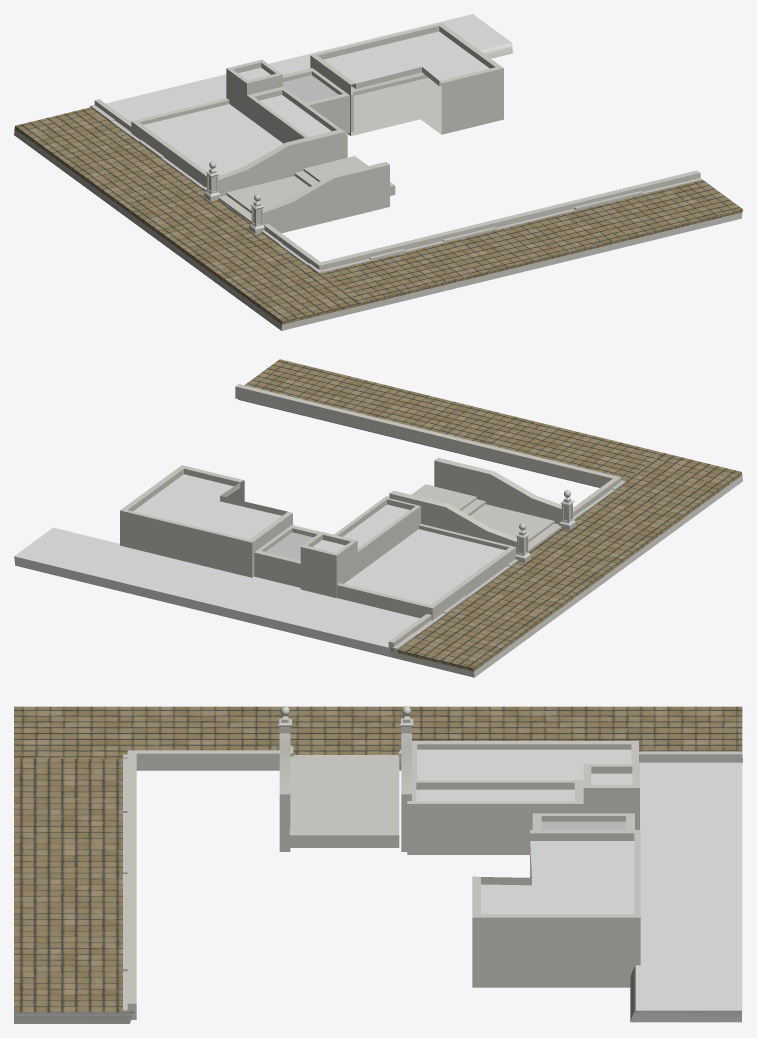
File: AddedMeshesMagritteHouse.fbx
3 renders of one model, top to bottom at view 1: azimuth 30°, elevation 25°; view 2: azimuth 150°, elevation 25°; view 3: azimuth 270°, elevation 25°, orthographic. The views are drawn at different scales.
Parts seen in each view (by area): view 1: Added Stuff; view 2: Added Stuff; view 3: Added Stuff.
Boxes of the visible parts, bbox=[...] form: Added Stuff: bbox=[14, 14, 742, 330]; Added Stuff: bbox=[14, 359, 742, 677]; Added Stuff: bbox=[14, 706, 742, 1023].
Bounding box in the file's own units: 2573 × 314 × 2586.
